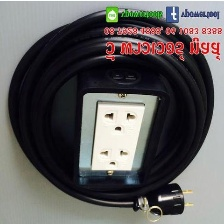three_eye_plug: (68, 58, 174, 194)
